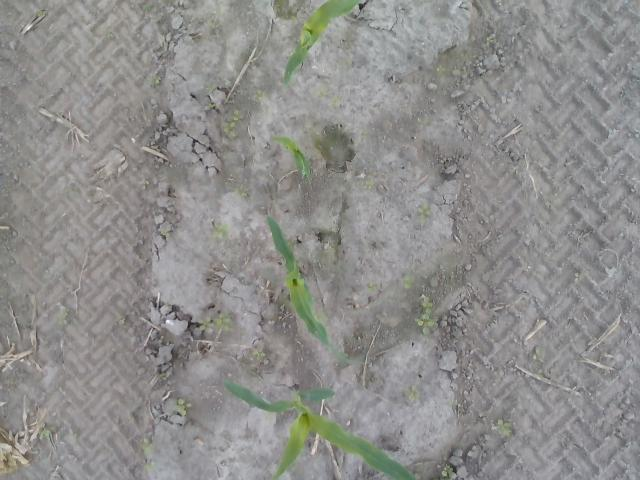Maize: (223, 379, 416, 480), (266, 216, 358, 368), (283, 0, 365, 84), (268, 134, 312, 176)
Weeds: (196, 313, 232, 336), (414, 299, 436, 336), (174, 398, 193, 418), (496, 418, 514, 438), (222, 113, 240, 131), (418, 203, 430, 225), (214, 224, 228, 238), (441, 464, 452, 480), (407, 385, 418, 400), (402, 274, 412, 289), (252, 350, 267, 360), (485, 36, 495, 48), (146, 78, 160, 86), (256, 88, 265, 100), (40, 430, 50, 440), (436, 65, 446, 73)
